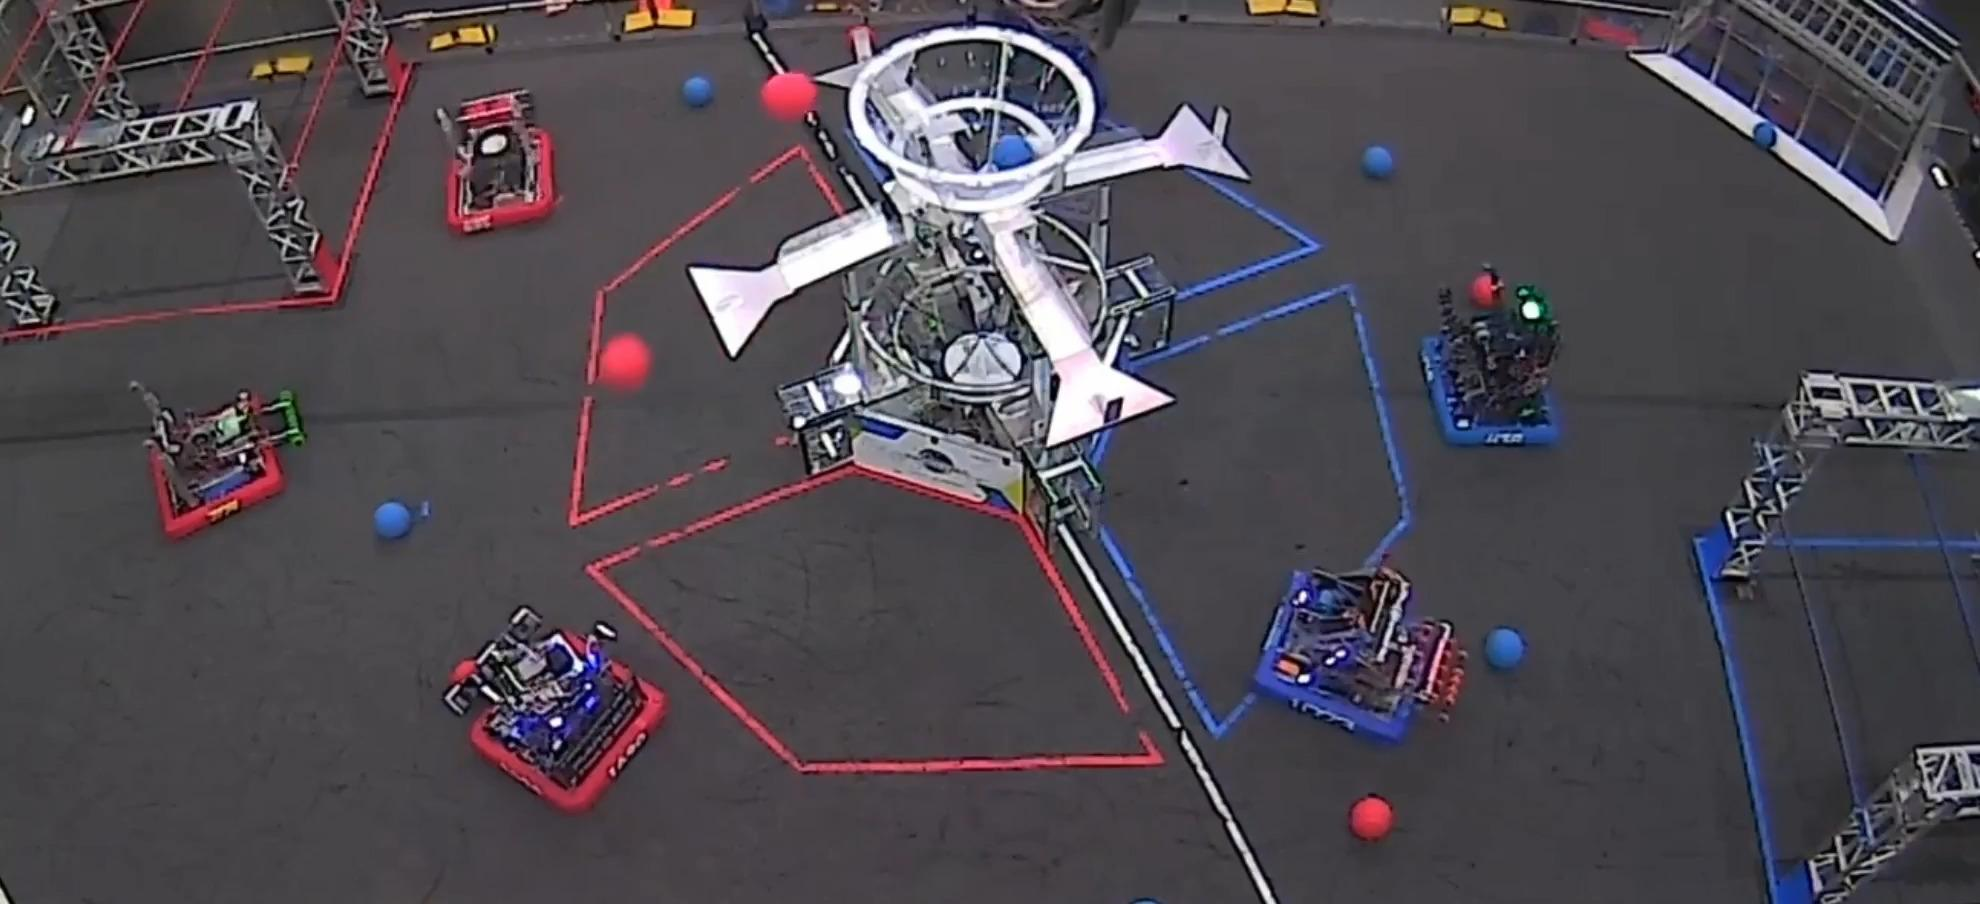Robots: (443, 609, 665, 812), (1253, 566, 1465, 742), (130, 381, 306, 539), (1422, 265, 1560, 444), (436, 90, 557, 234), (994, 18, 1110, 154)
